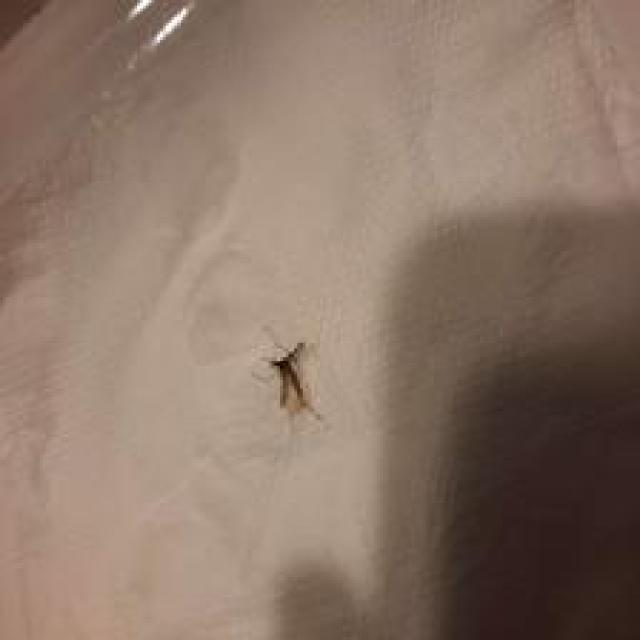Culex: (262, 339, 322, 424)
